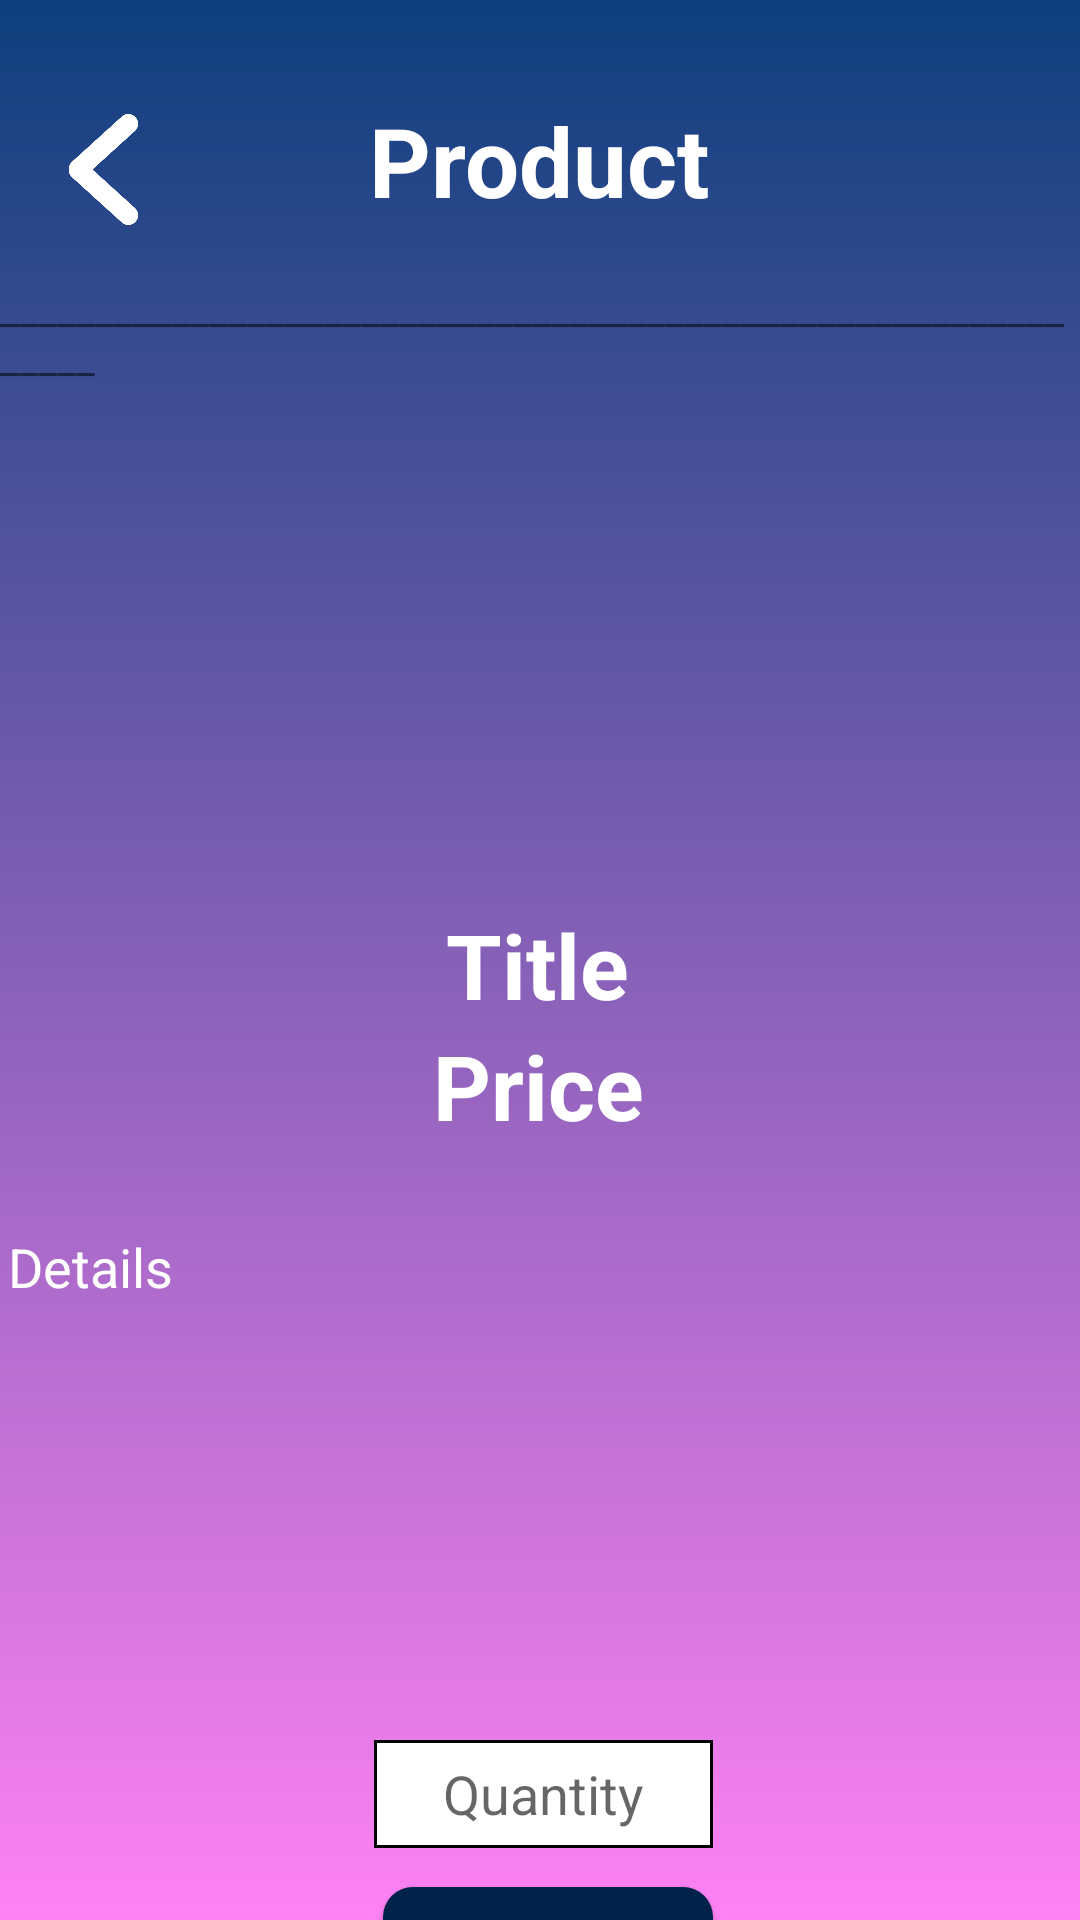

Named icons in this screenshot (1080x1920) and their bounding boxes, Rect(x1, y1, x2, y2):
arrow left: Rect(69, 114, 138, 225)
